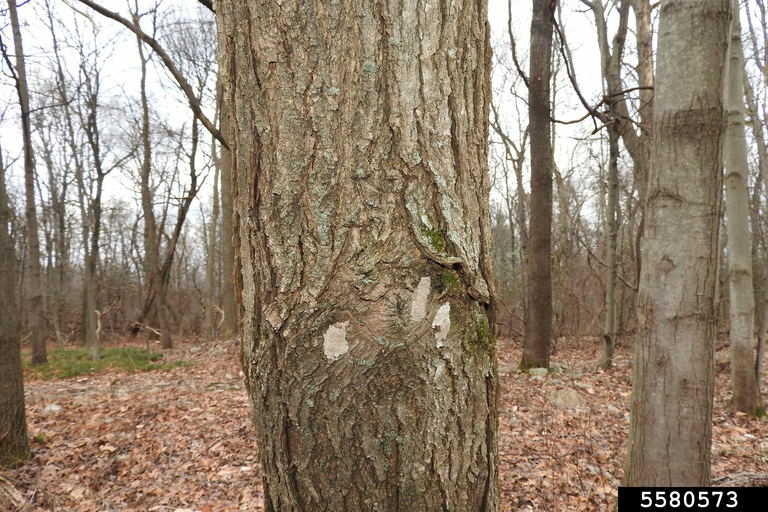egg masses: (324, 322, 350, 356), (415, 275, 429, 322), (434, 299, 447, 349)
